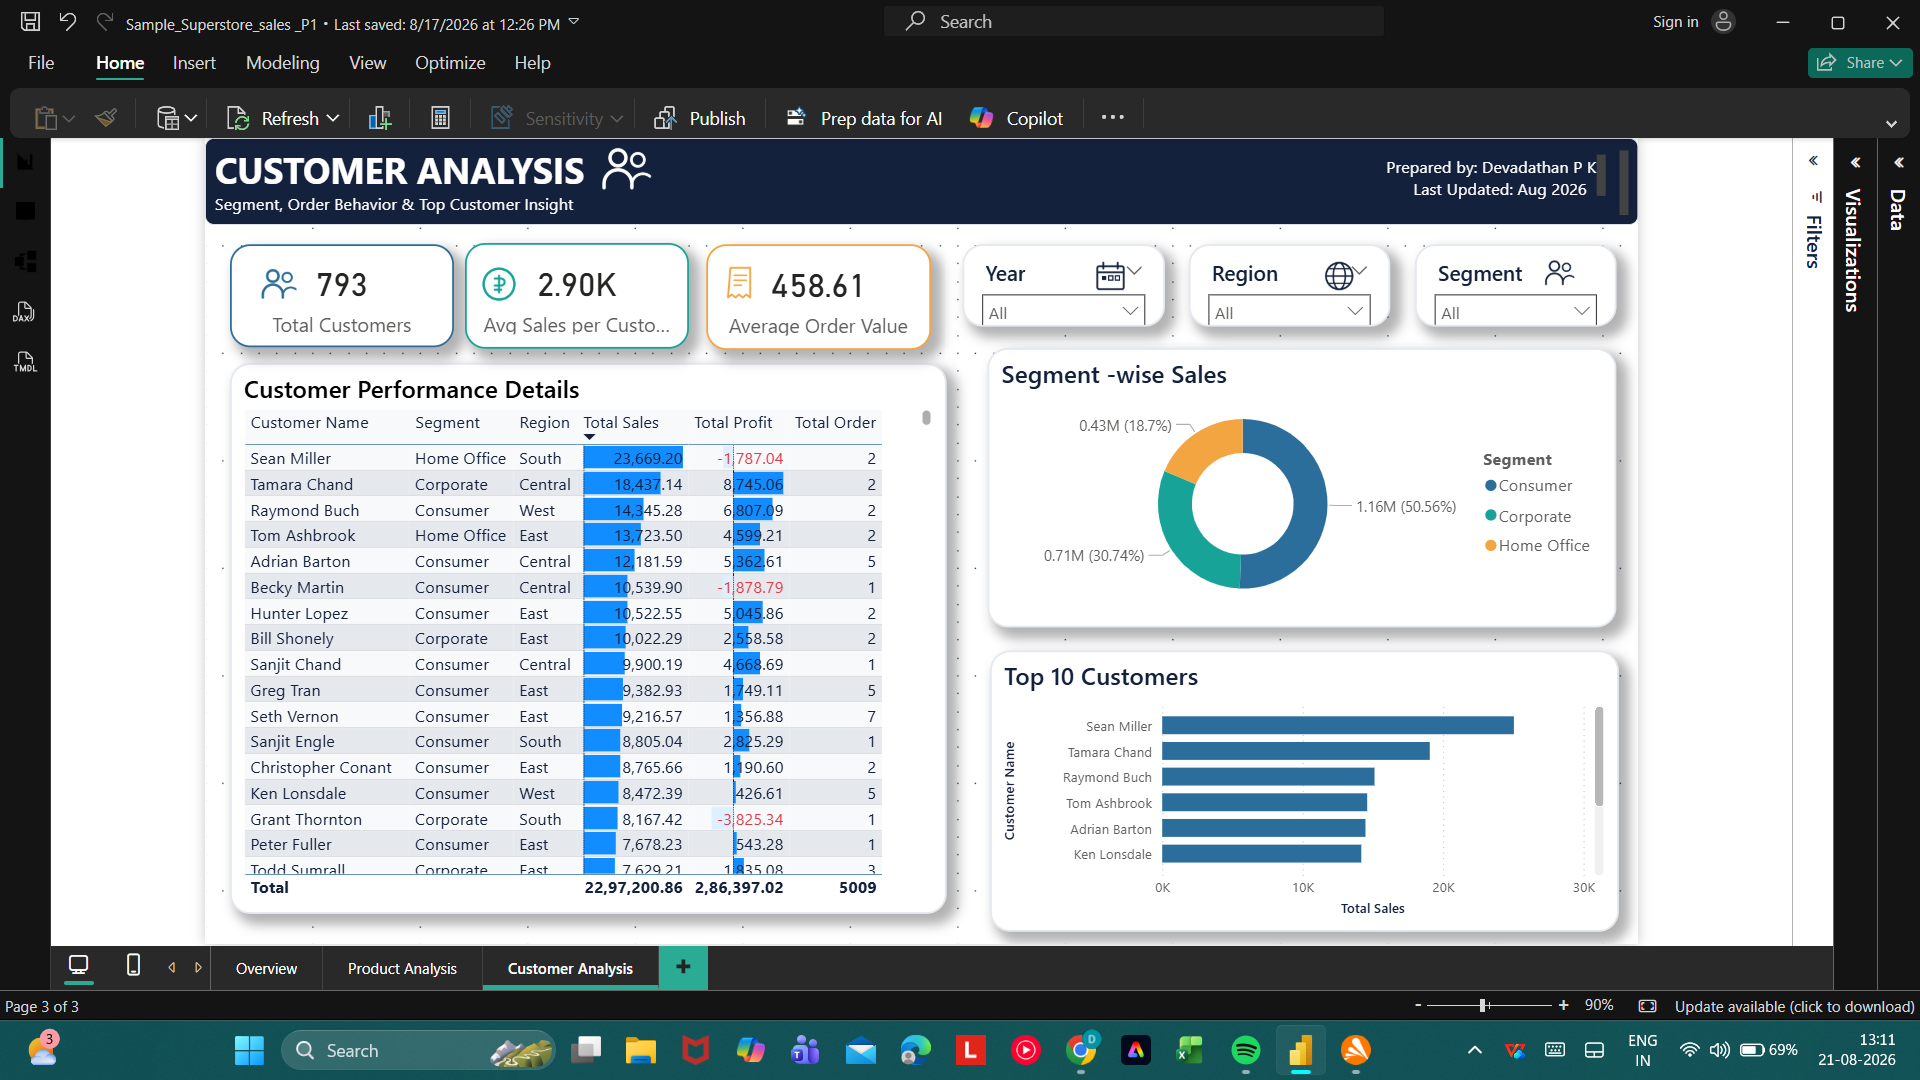

The dashboard page shown, as its layout file describes it:
{"tool":"powerbi","page":{"name":"Customer Analysis","canvas":[1280,720],"ordinal":2},"visuals":[{"type":"donutChart","title":"Segment -wise Sales","fields":{"Category":["Sample - Superstore new.Segment"],"Y":["Sample - Superstore new.Total Sales"]},"box":[699.1,187.1,561.2,249.8],"z":0},{"type":"clusteredBarChart","title":" Top 10 Customers","fields":{"Category":["Sample - Superstore new.Customer Name"],"Y":["Sample - Superstore new.Total Sales"]},"box":[701.5,457.8,561.2,251.1],"z":1000},{"type":"textbox","box":[0,0,1280,77.9],"z":5000},{"type":"textbox","box":[826,10,429.8,55.8],"z":6000},{"type":"tableEx","title":"Customer Performance Details","fields":{"Values":["Sample - Superstore new.Customer Name","Sample - Superstore new.Segment","Sample - Superstore new.Region","Sample - Superstore new.Total Sales","Sample - Superstore new.Total Profit","Sample - Superstore new.Total Order"]},"box":[22.2,200.6,640,492.3],"z":7000},{"type":"card","fields":{"Values":["DateTable.Total Customers"]},"box":[22.2,94.8,200,92.3],"z":8000},{"type":"card","fields":{"Values":["DateTable.Avg Sales per Customer"]},"box":[232.6,93.5,200,94.8],"z":9000},{"type":"card","fields":{"Values":["DateTable.Average Order Value"]},"box":[448,94.8,200.6,94.8],"z":10000},{"type":"slicer","fields":{"Values":["DateTable.Year"]},"box":[676.9,94.8,180.9,73.8],"z":11000},{"type":"slicer","fields":{"Values":["Sample - Superstore new.Region"]},"box":[878.8,94.8,179.7,73.8],"z":12000},{"type":"slicer","fields":{"Values":["Sample - Superstore new.Segment"]},"box":[1080.6,94.8,180,73.8],"z":13000},{"type":"image","box":[342.2,0,66.5,56.6],"z":14000},{"type":"image","box":[232.6,110.8,60,40],"z":15000},{"type":"image","box":[35.7,110.8,60.3,40.6],"z":16000},{"type":"image","box":[448,112,60.3,35],"z":17000},{"type":"image","box":[995.7,100.9,34.5,45.5],"z":18000},{"type":"image","box":[791.4,103.4,34.5,40.6],"z":19000},{"type":"image","box":[1192.6,100.9,34.5,40.6],"z":20000}]}

Visuals, with their boxes on the page's 1280x720 design canvas (x1, y1, x2, y2). These are canvas units, not pixel positions in the 1920x1080 screenshot, which may show the page scaled, cropped or inside an application window:
"Segment -wise Sales" donutChart: <region>699, 187, 1260, 437</region>
" Top 10 Customers" clusteredBarChart: <region>702, 458, 1263, 709</region>
textbox: <region>0, 0, 1280, 78</region>
textbox: <region>826, 10, 1256, 66</region>
"Customer Performance Details" tableEx: <region>22, 201, 662, 693</region>
card - DateTable.Total Customers: <region>22, 95, 222, 187</region>
card - DateTable.Avg Sales per Customer: <region>233, 94, 433, 188</region>
card - DateTable.Average Order Value: <region>448, 95, 649, 190</region>
slicer - DateTable.Year: <region>677, 95, 858, 169</region>
slicer - Sample - Superstore new.Region: <region>879, 95, 1058, 169</region>
slicer - Sample - Superstore new.Segment: <region>1081, 95, 1261, 169</region>
image: <region>342, 0, 409, 57</region>
image: <region>233, 111, 293, 151</region>
image: <region>36, 111, 96, 151</region>
image: <region>448, 112, 508, 147</region>
image: <region>996, 101, 1030, 146</region>
image: <region>791, 103, 826, 144</region>
image: <region>1193, 101, 1227, 142</region>
